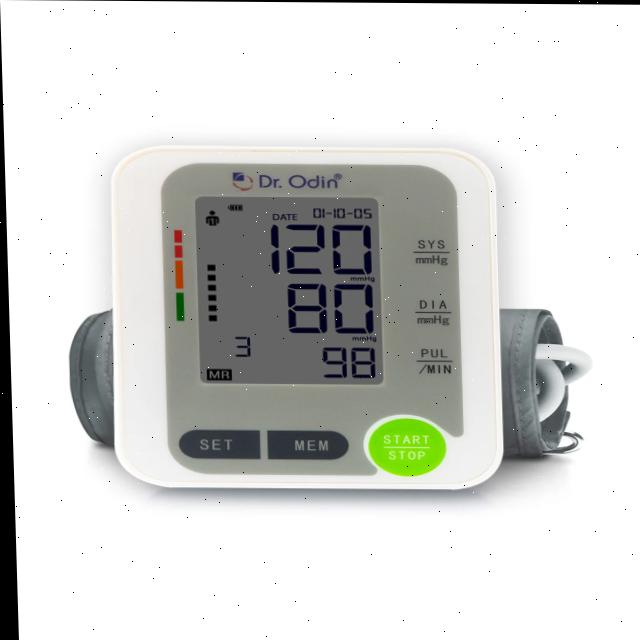dia: (281, 279, 375, 340)
pul: (312, 339, 383, 381)
ssd: (194, 192, 382, 390)
sys: (256, 218, 376, 280)
